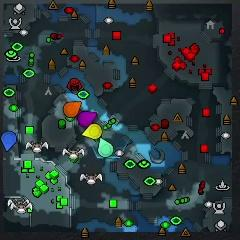p1: (2, 130, 17, 152)
p2: (98, 138, 114, 158)
p3: (77, 111, 97, 126)
p4: (81, 123, 102, 139)
p5: (63, 101, 82, 116)
